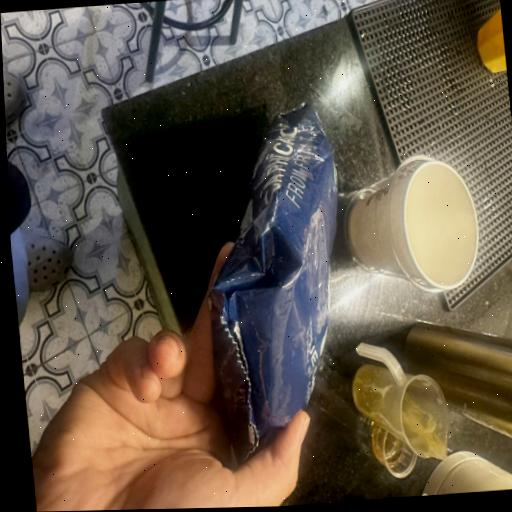cafe_hat: (209, 104, 336, 461)
